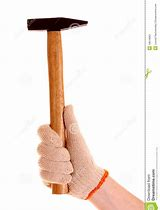hammer: (25, 16, 91, 196)
